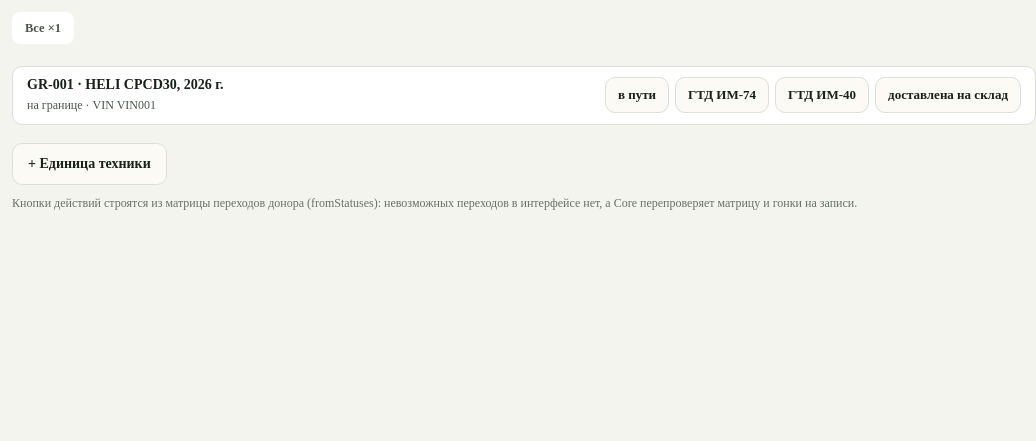
Scenario: формы склада техники › передаёт номер и дату ГТД перехода, сохраняя их при отказе
Click the button "ГТД ИМ-74" at (722, 95), box top-left (675, 77), bottom-right (769, 113)
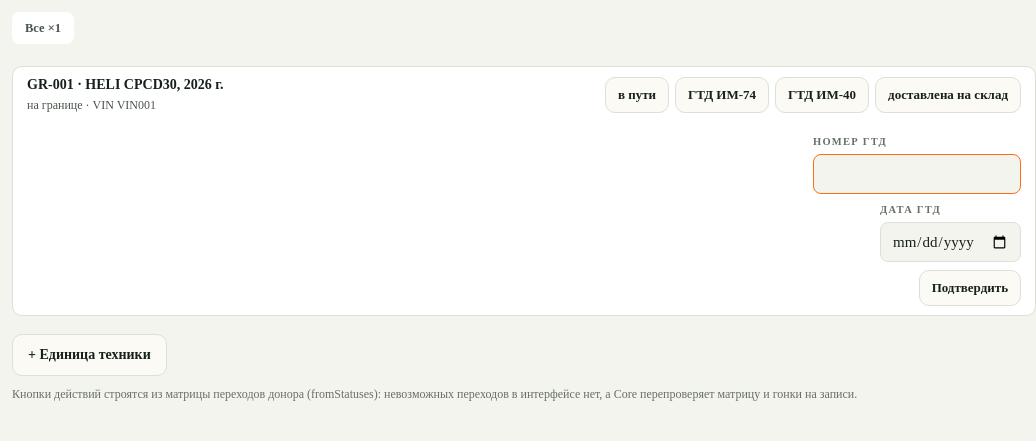
Type "IM74-77" into the field labelled "Номер ГТД" at (917, 174), box top-left (813, 154), bottom-right (1021, 194)
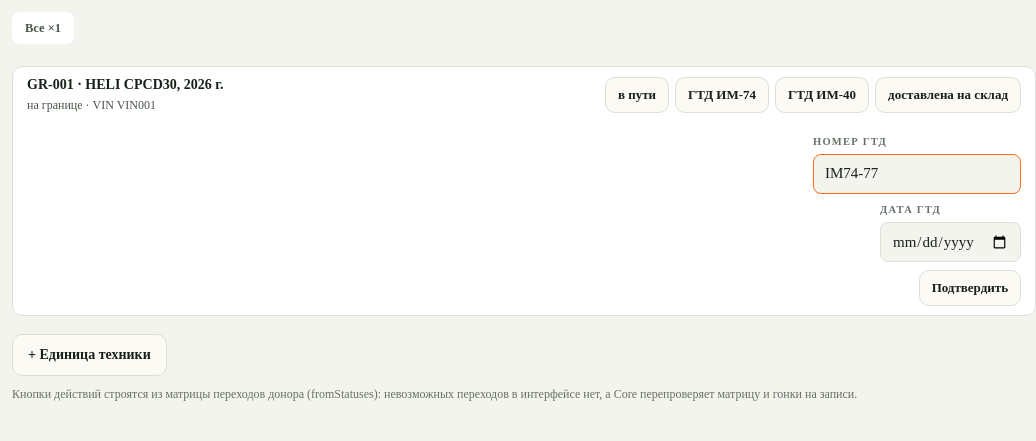
Type "2026-08-24" into the date field labelled "Дата ГТД" at (950, 242), box top-left (880, 222), bottom-right (1021, 262)
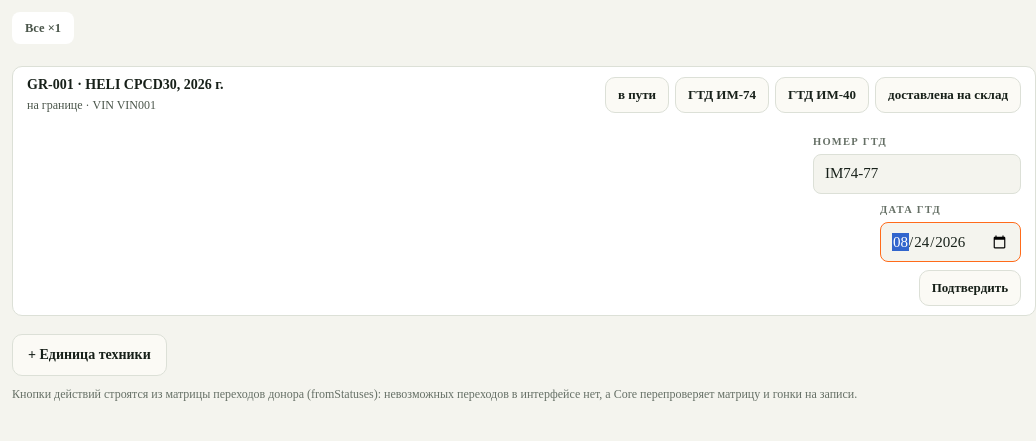
Click the button "Подтвердить" at (970, 288), box top-left (919, 270), bottom-right (1021, 306)
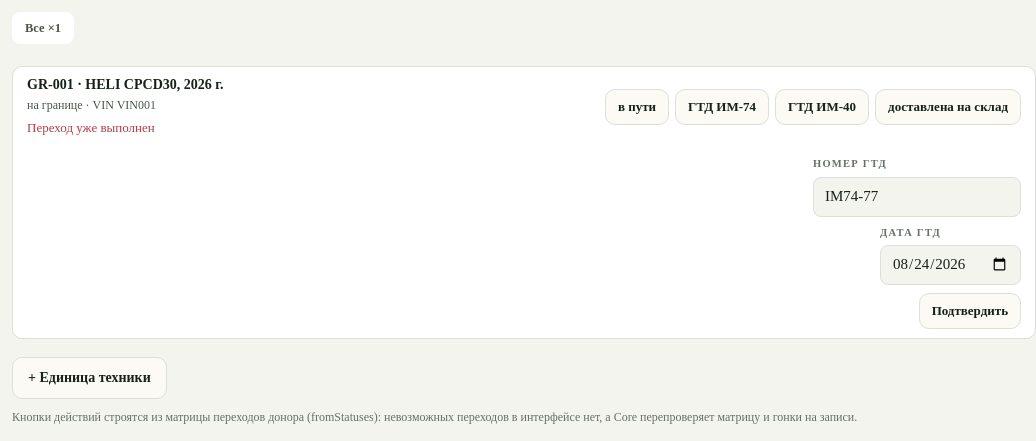
Now the text "Переход уже выполнен" is shown, box top-left (27, 120), bottom-right (155, 135)
